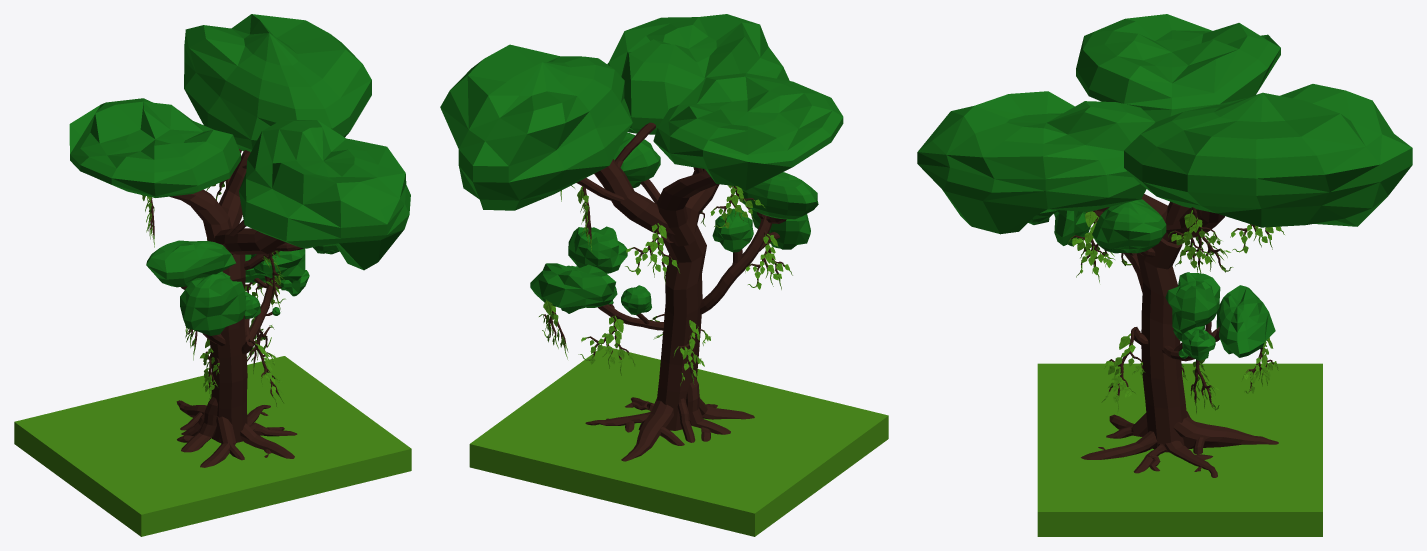
File: Tree.obj
3 views of the same model, side by side, from view 1: azimuth 30°, elevation 25°; view 2: azimuth 150°, elevation 25°; view 3: azimuth 270°, elevation 25° (orthographic). The views are drawn at different scales.
Visible parts, largest first — view 1: group1824895846, group1013485813, group470830306, group2102882934, group739545581, group2028584967, group1458414534, group1788544163, group1761565430, group1553637318, group1852867746, group1680604417 (+5 smaller); view 2: group1824895846, group470830306, group2102882934, group1013485813, group739545581, group1198685851, group1458414534, group1761565430, group1553637318, group1852867746, group1862560168, group1156426880 (+14 smaller); view 3: group1824895846, group470830306, group1013485813, group2102882934, group739545581, group1156426880, group1198685851, group1553637318, group967574188, group1642462034, group1209368409, group2028584967 (+7 smaller).
Boxes of the visible parts, x1,y1,x2,y2 form: group1824895846: [14, 356, 411, 536]; group1013485813: [239, 120, 410, 270]; group470830306: [184, 14, 371, 152]; group2102882934: [69, 98, 240, 197]; group739545581: [210, 254, 247, 442]; group2028584967: [180, 274, 246, 335]; group1458414534: [146, 240, 235, 287]; group1788544163: [213, 228, 285, 254]; group1761565430: [170, 189, 231, 241]; group1553637318: [251, 248, 305, 280]; group1852867746: [219, 150, 250, 228]; group1680604417: [181, 397, 217, 452]; group1824895846: [469, 346, 888, 536]; group470830306: [440, 44, 632, 210]; group2102882934: [653, 73, 843, 190]; group1013485813: [607, 14, 789, 134]; group739545581: [657, 225, 706, 430]; group1198685851: [530, 263, 617, 313]; group1458414534: [735, 172, 818, 219]; group1761565430: [656, 170, 717, 246]; group1553637318: [568, 226, 627, 273]; group1852867746: [594, 159, 674, 237]; group1862560168: [700, 215, 771, 314]; group1156426880: [613, 133, 660, 188]; group1824895846: [1037, 363, 1322, 536]; group470830306: [1124, 84, 1412, 227]; group1013485813: [917, 91, 1155, 234]; group2102882934: [1076, 14, 1280, 122]; group739545581: [1136, 238, 1186, 452]; group1156426880: [1092, 199, 1166, 253]; group1198685851: [1216, 285, 1275, 357]; group1553637318: [1165, 272, 1220, 333]; group967574188: [1173, 416, 1278, 448]; group1642462034: [1168, 207, 1221, 273]; group1209368409: [1101, 327, 1145, 413]; group2028584967: [1054, 210, 1090, 246].
Size of the model in its own units: 1.16 by 1.35 by 1.44.
